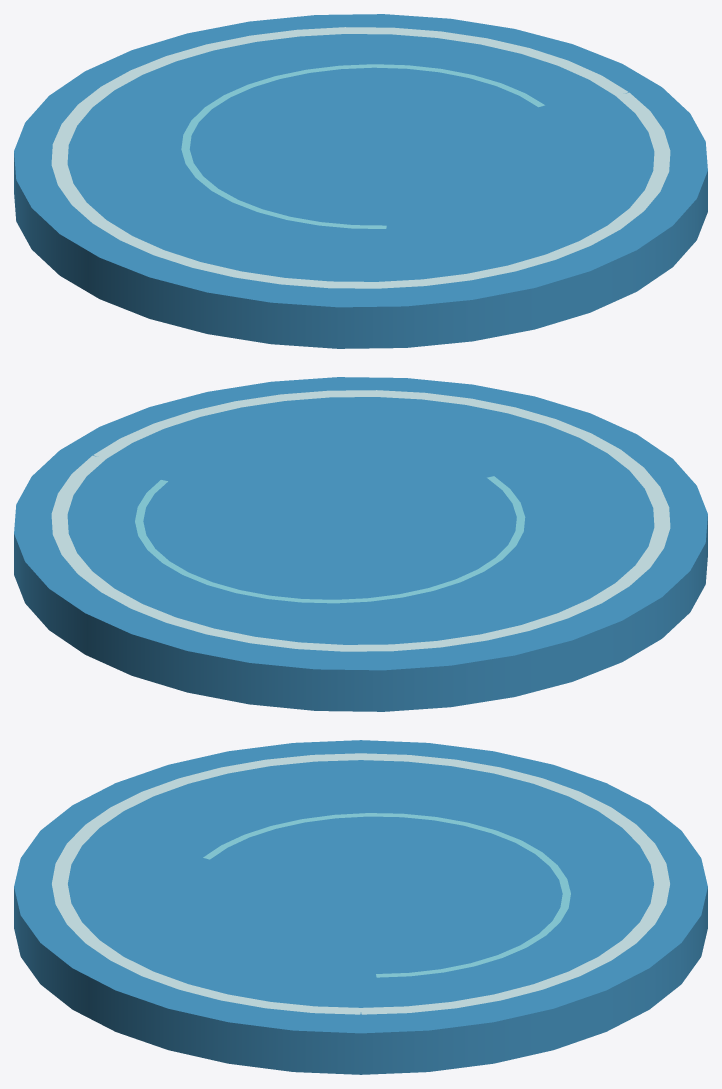
File: water_pool_small_01.glb
The picture shows the model from 3 angles, top to bottom: view 1: azimuth 30°, elevation 25°; view 2: azimuth 150°, elevation 25°; view 3: azimuth 270°, elevation 25°; orthographic projection.
Parts seen in each view (by area): view 1: water_pool_small_01; view 2: water_pool_small_01; view 3: water_pool_small_01.
Boxes of the visible parts, left/top/right/bottom form: water_pool_small_01: left=14, top=14, right=707, bottom=348; water_pool_small_01: left=14, top=377, right=707, bottom=711; water_pool_small_01: left=14, top=740, right=707, bottom=1074.
Bounding box in the file's own units: 1.82 × 0.128 × 1.82.
